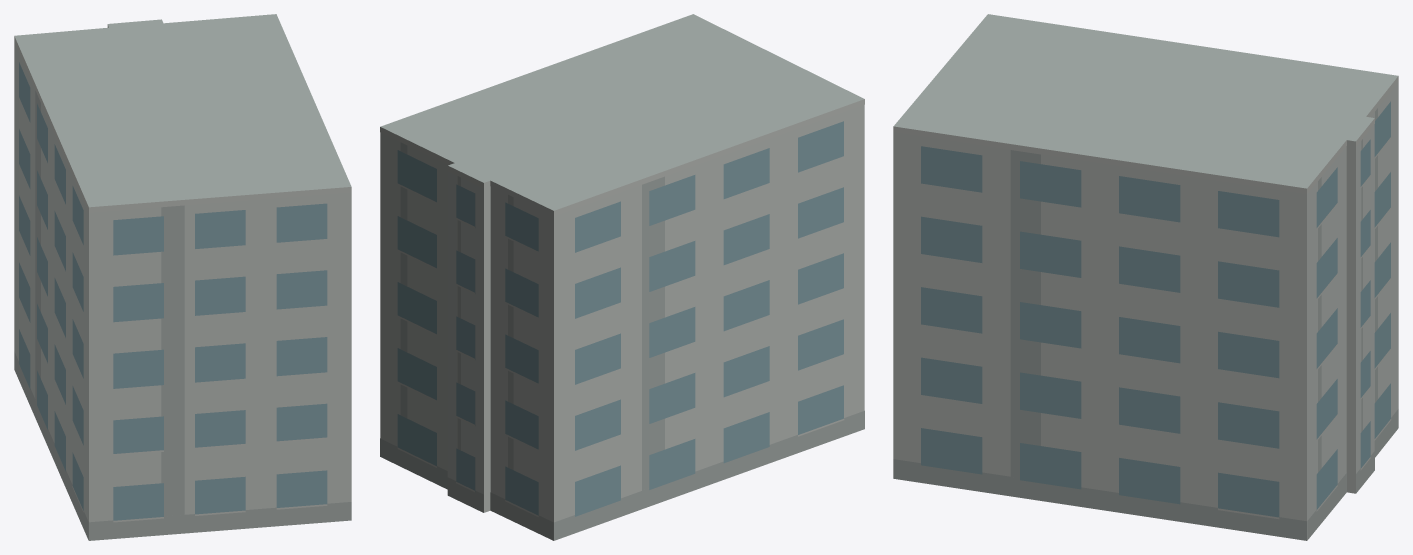
The model's file is survey-upis-32850268.glb.
The picture shows the model from 3 angles, left to right: view 1: azimuth 30°, elevation 25°; view 2: azimuth 150°, elevation 25°; view 3: azimuth 270°, elevation 25°; orthographic projection. The views are drawn at different scales.
Parts seen in each view (by area): view 1: survey-upis-32850268.tmp; view 2: survey-upis-32850268.tmp; view 3: survey-upis-32850268.tmp.
Boxes of the visible parts, box(x1,y1,x2,y2) form: survey-upis-32850268.tmp: box(14, 14, 351, 540); survey-upis-32850268.tmp: box(380, 14, 864, 540); survey-upis-32850268.tmp: box(893, 14, 1398, 540).
Size of the model in its own units: 15.37 by 14.45 by 18.79.
